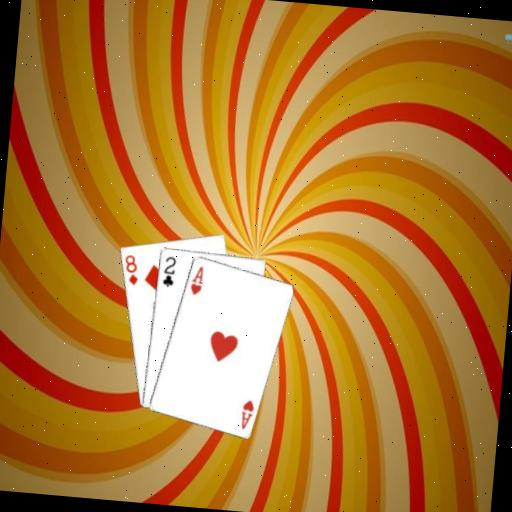2C: (160, 253, 178, 288)
8D: (120, 251, 142, 288)
AH: (186, 263, 206, 298), (237, 396, 256, 431)
